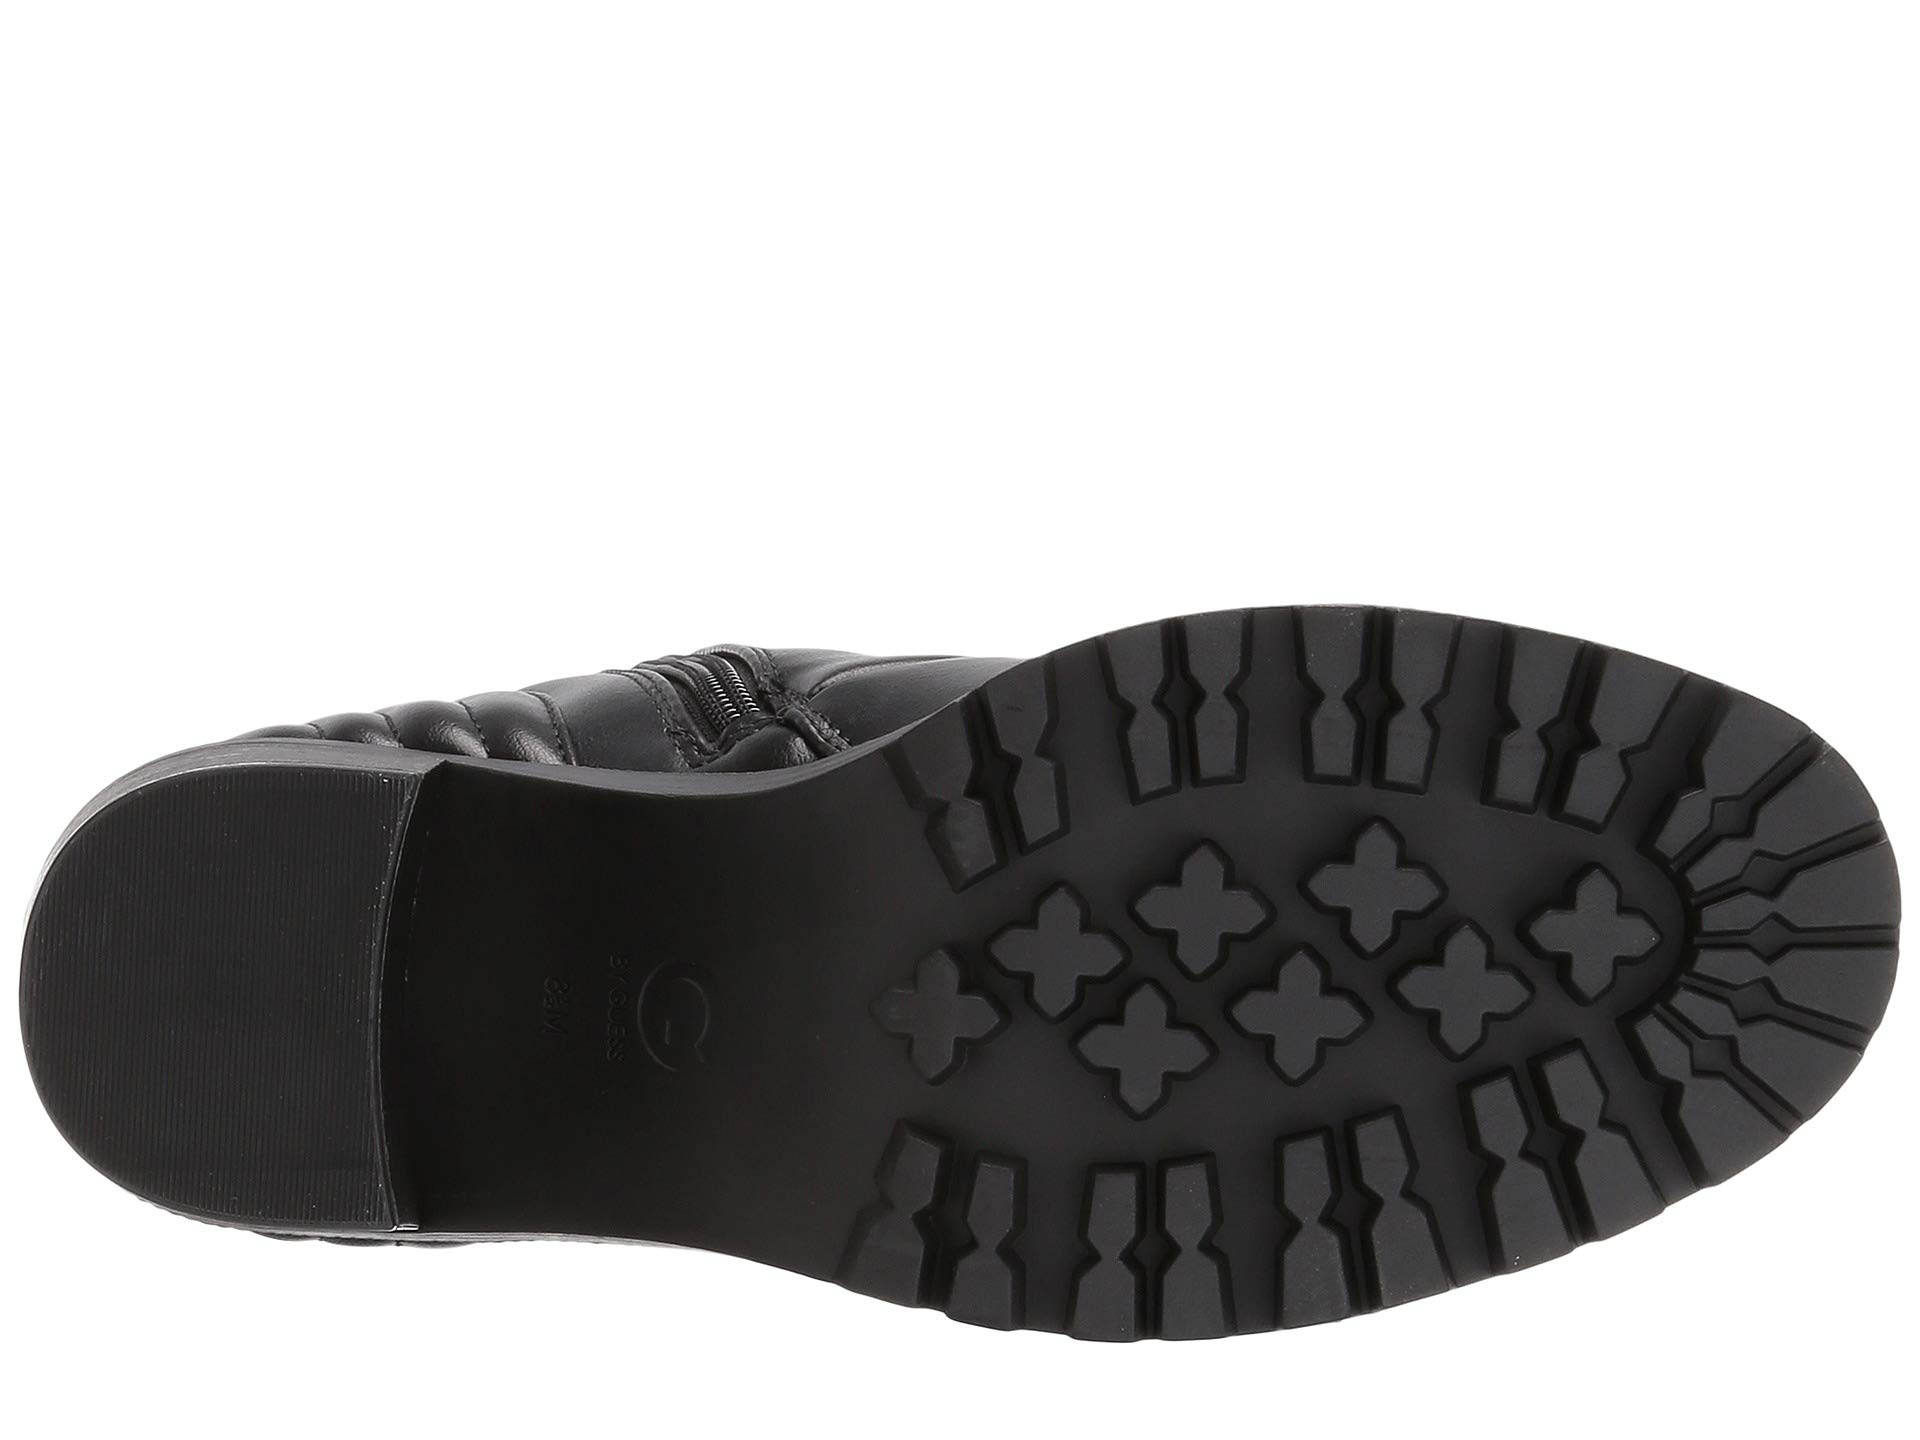bowtie: (844, 1098, 1453, 1313), (1583, 678, 1884, 1086), (1274, 599, 1488, 799)
star: (828, 811, 1649, 1080)
